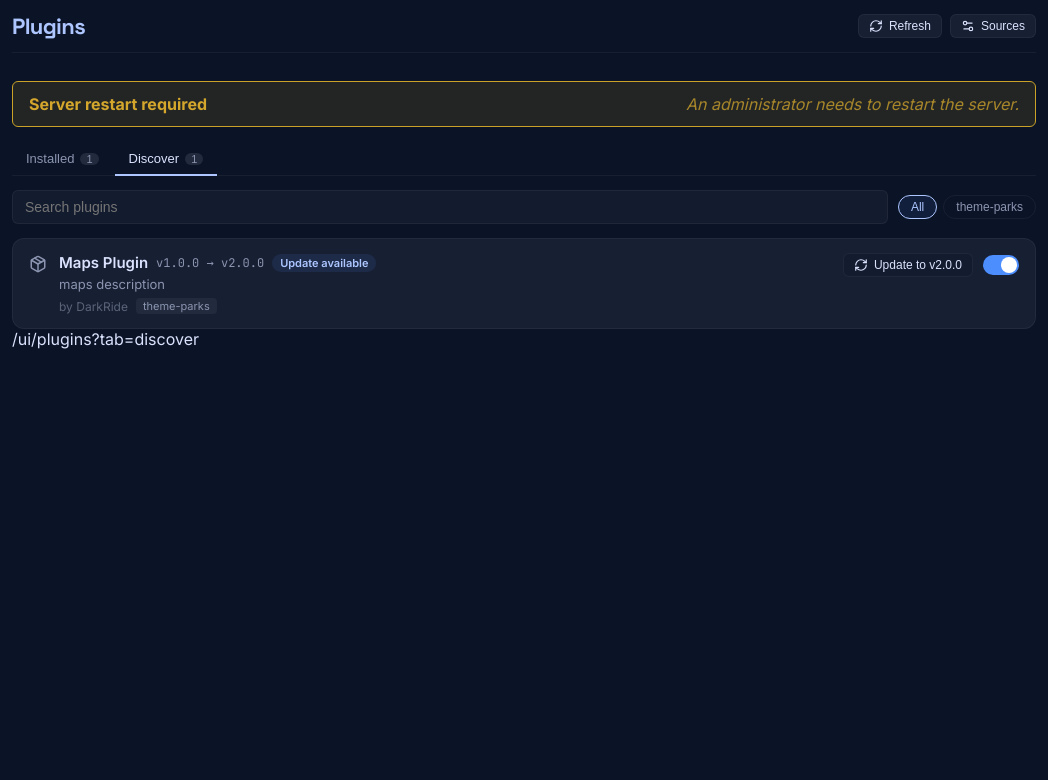
Test: PluginsWorkspace: updates › offers the same Update button on the Discover tab
Click the button "Update to v2.0.0". click: (908, 265)
box: [843,253,973,277]
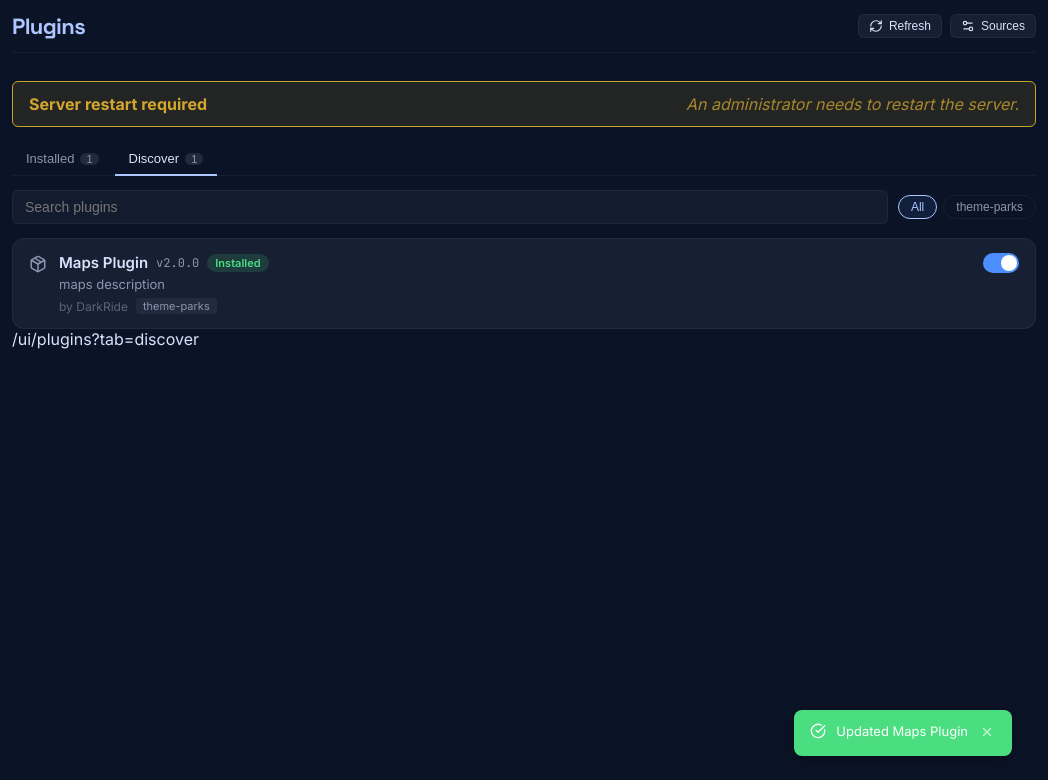
Expected: the text "Updated Maps Plugin" is shown, [836,722,968,740]
